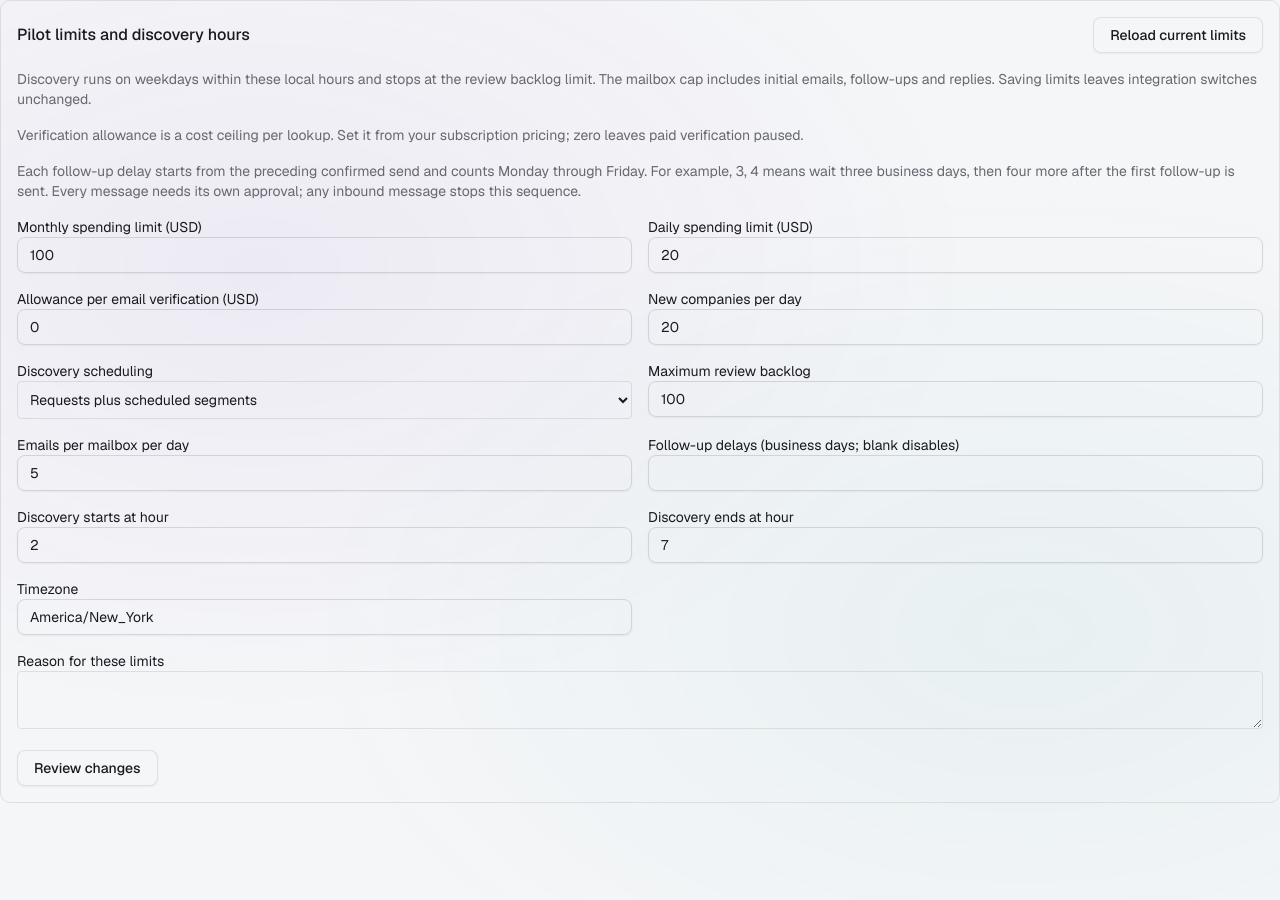
rejects invalid hours and excessive decimal precision before a write
The width and height of the screenshot is (1280, 900).
Replace the text in the field labelled "Monthly spending limit (USD)" with "0.0000001" at (324, 255), box [17,237,632,273]
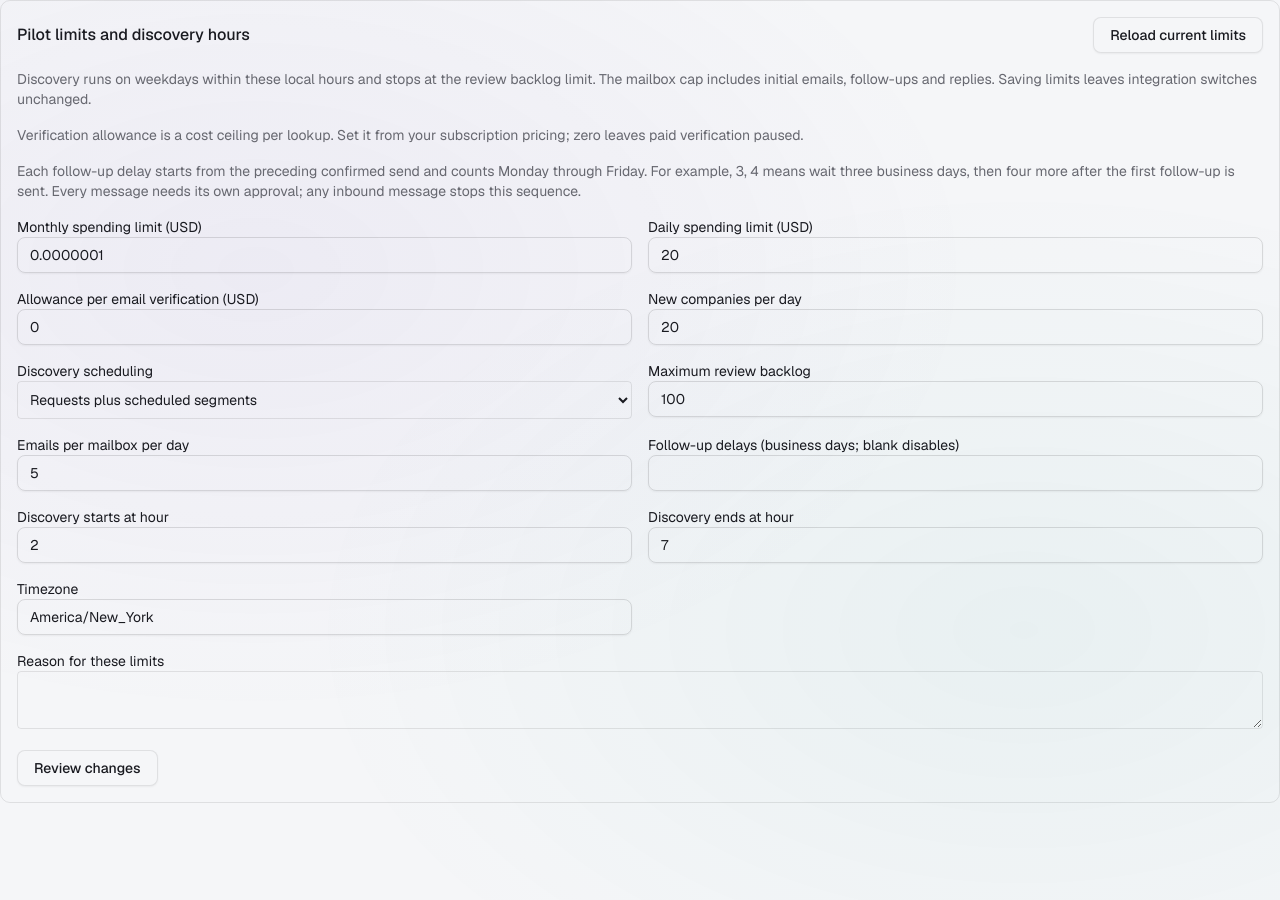
Type "Reviewed pilot spending ceiling" into the text box labelled "Reason for these limits" at (640, 700), box [17,671,1263,729]
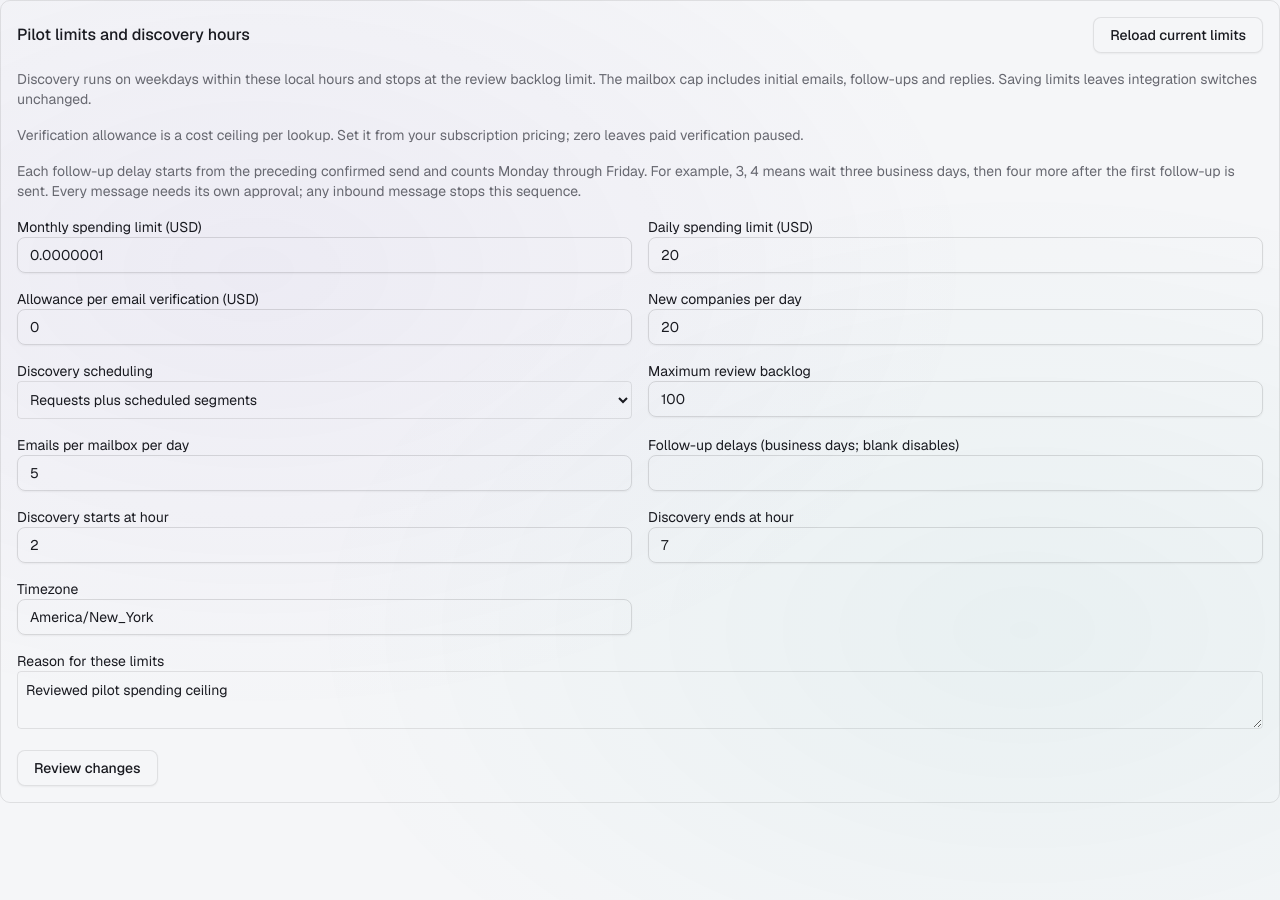
Click the button "Review changes" at (87, 768), box [17,750,158,786]
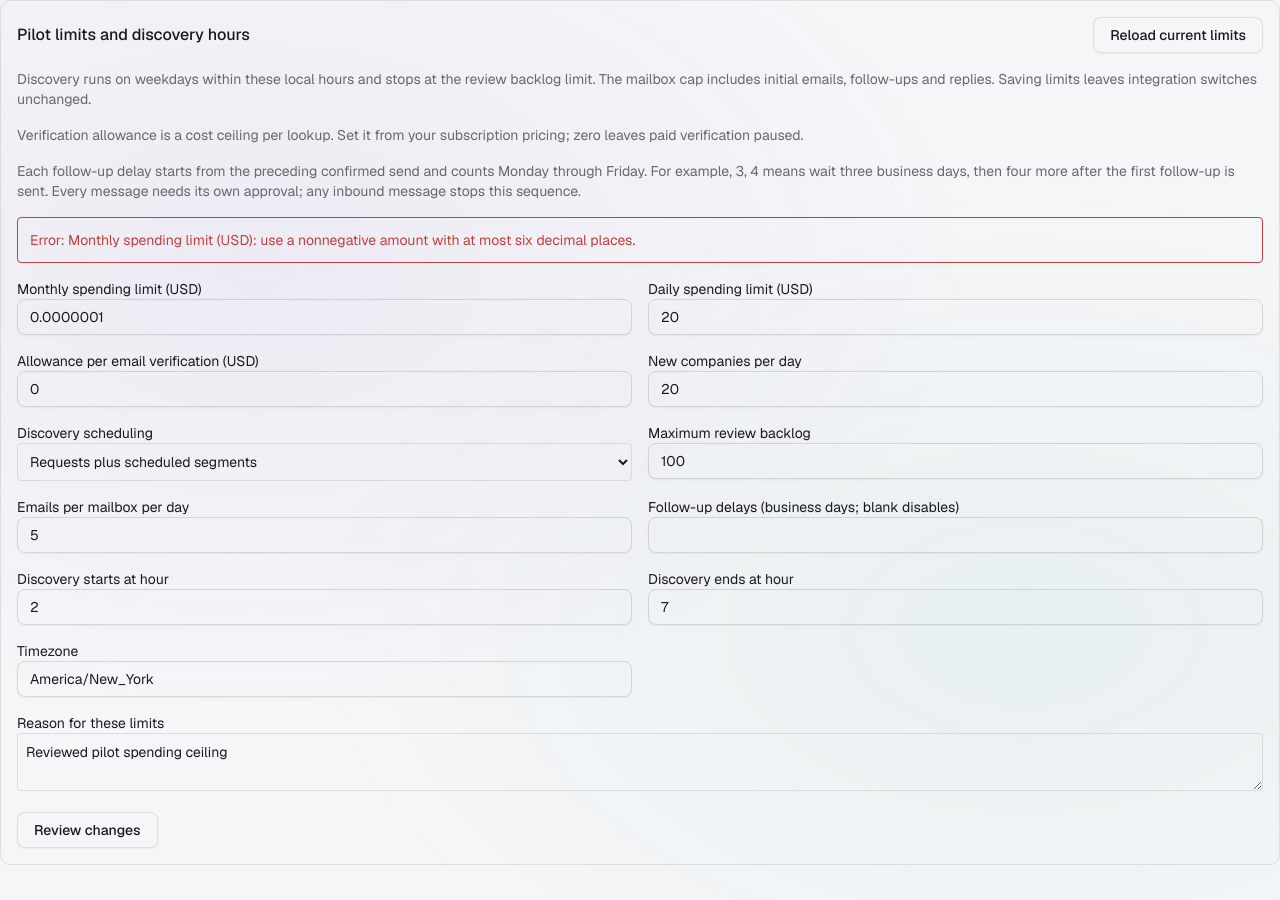
Result: the message shows "six decimal" at [30,231,635,249]
Replace the text in the field labelled "Monthly spending limit (USD)" with "500" at (324, 317), box [17,299,632,335]
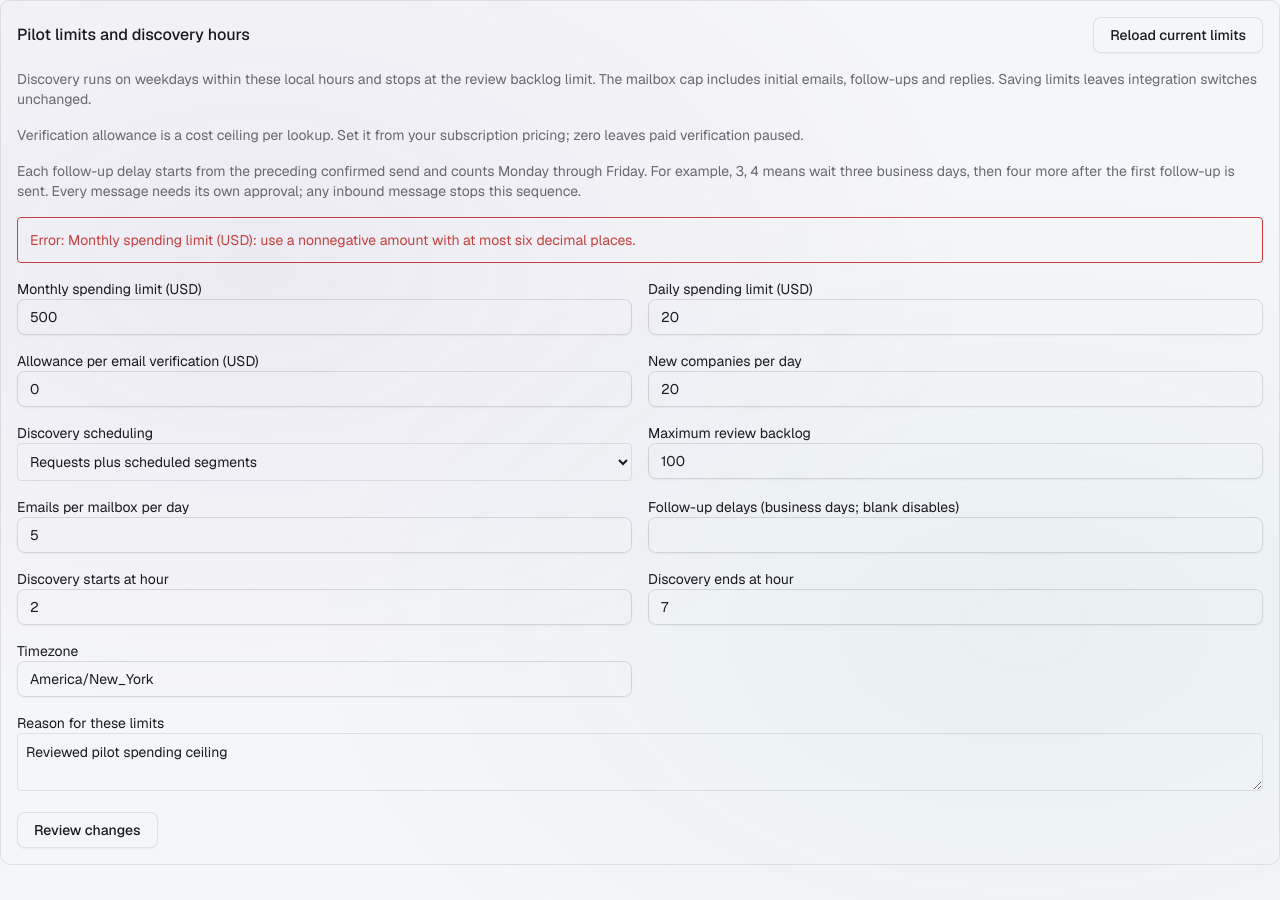
Replace the text in the field labelled "Discovery starts at hour" with "9" at (324, 607), box [17,589,632,625]
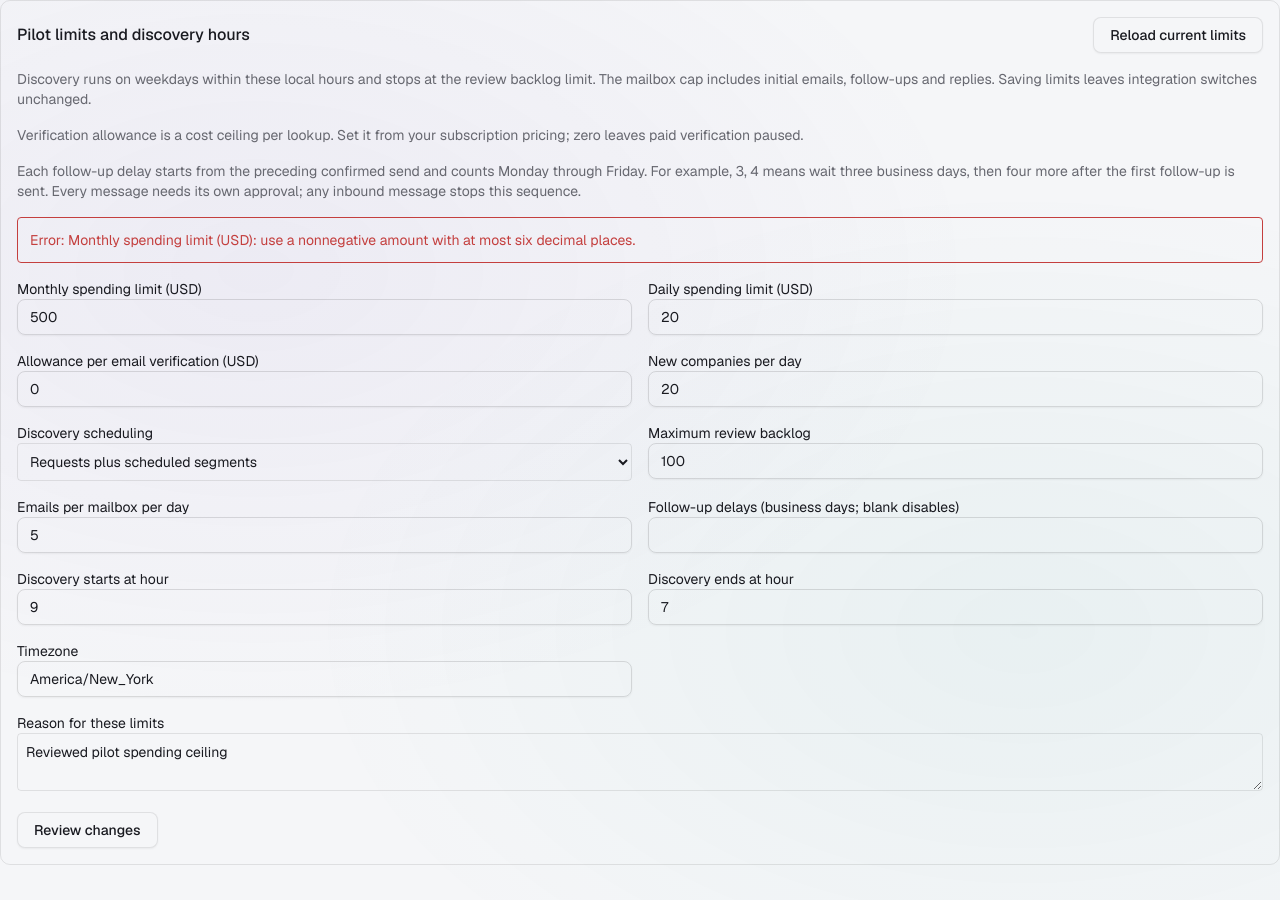
Click the button "Review changes" at (87, 830), box [17,812,158,848]
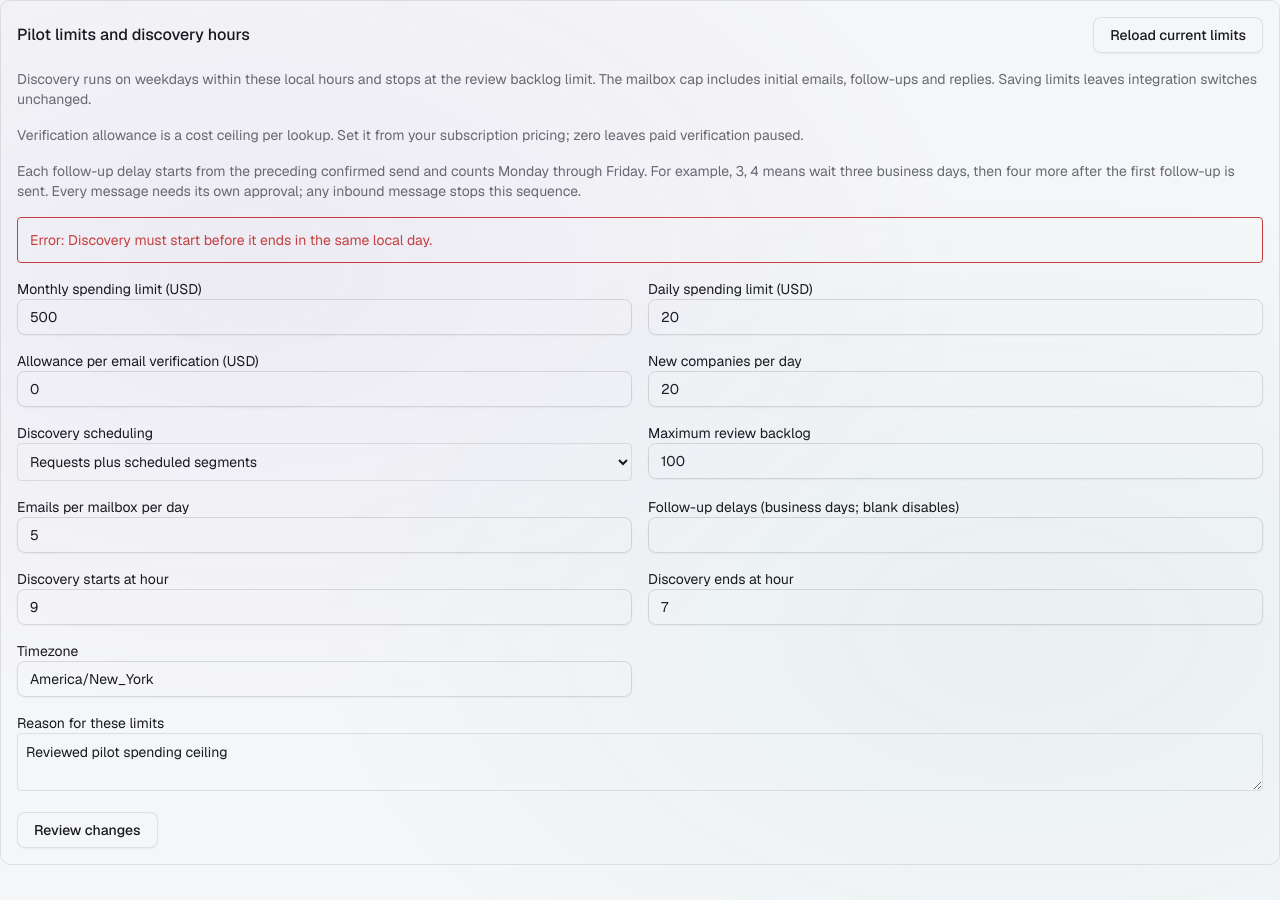
Result: the message shows "before" at [30,231,432,249]
